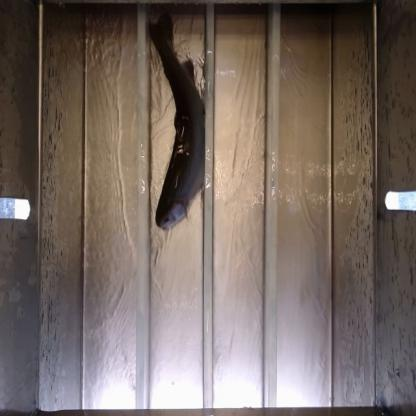pezw: (148, 15, 204, 235)
